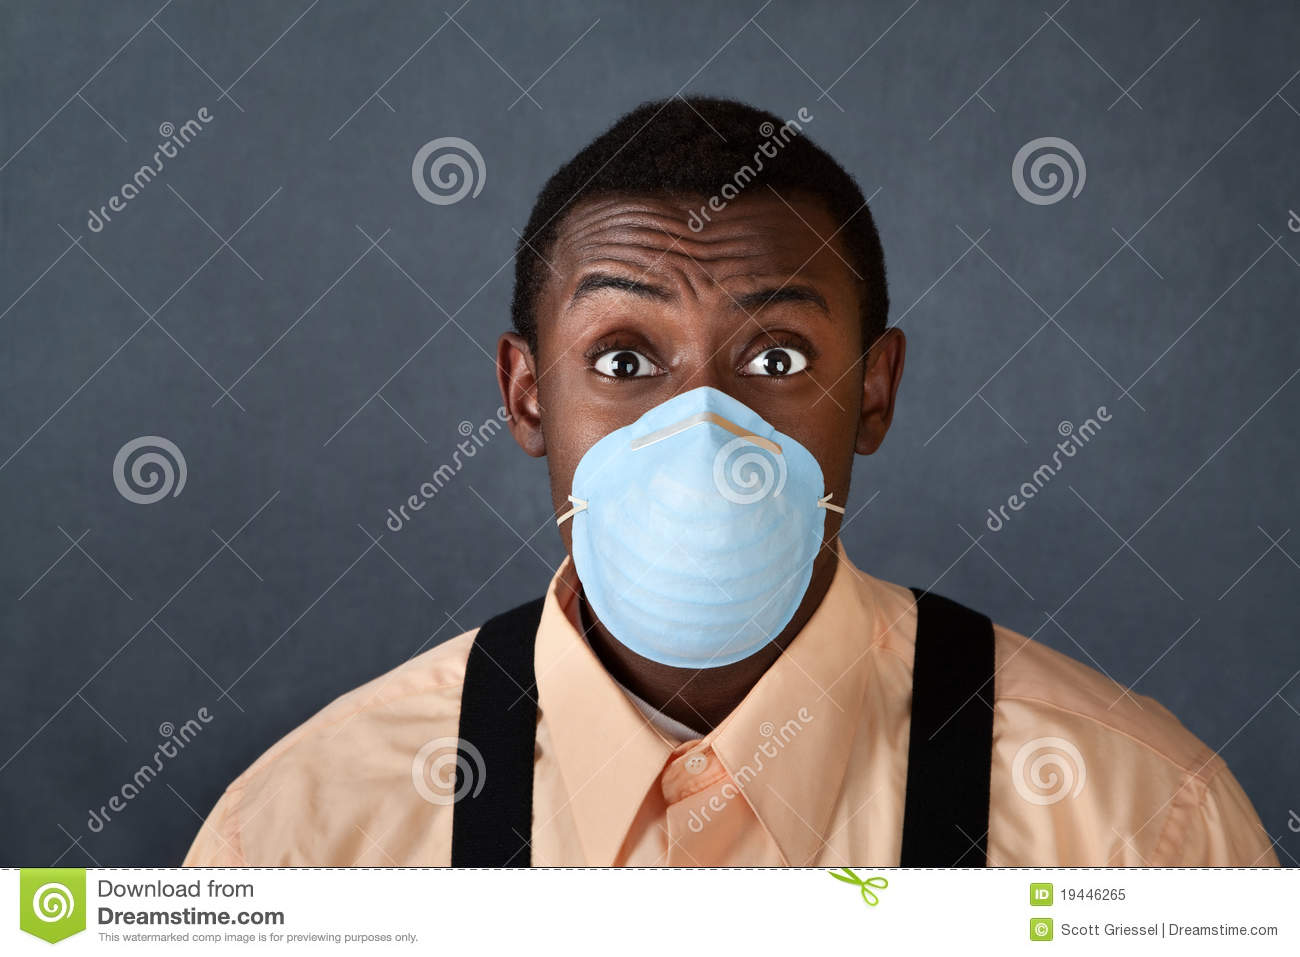mask: (558, 395, 835, 682)
